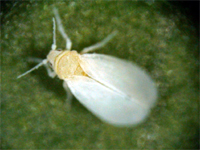whitefly: (15, 6, 159, 128)
